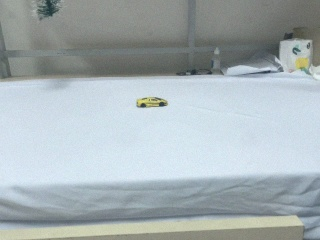box: (279, 38, 312, 72)
toy_car: (136, 97, 168, 108)
